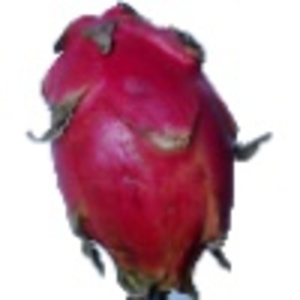pitaia: (28, 1, 272, 300)
